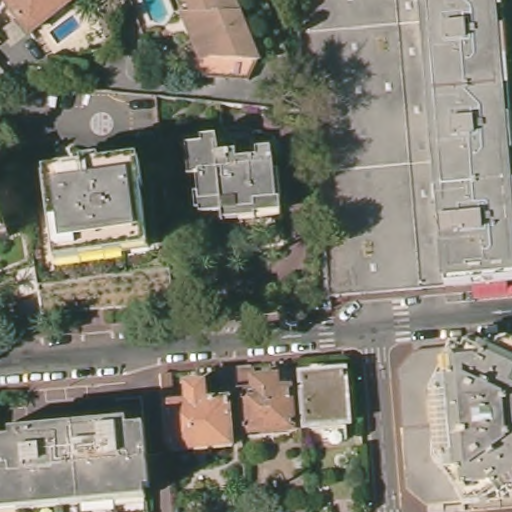pool: (50, 14, 80, 44), (143, 1, 175, 25)
